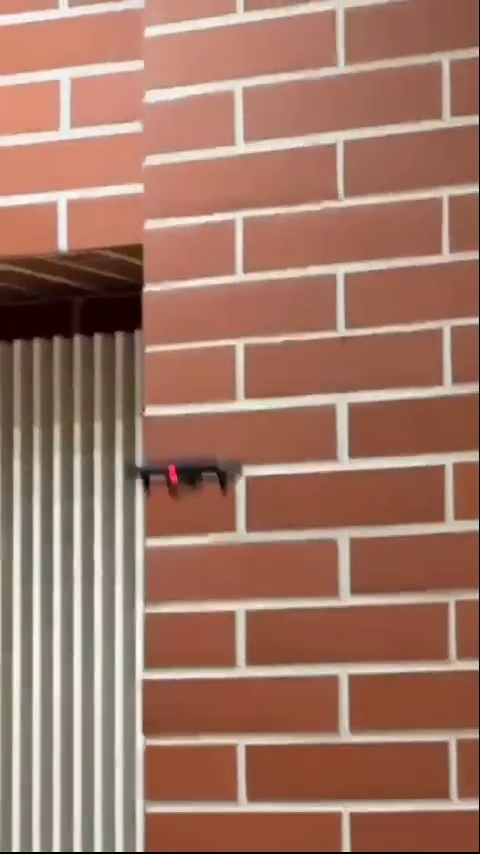drone: (126, 454, 253, 501)
